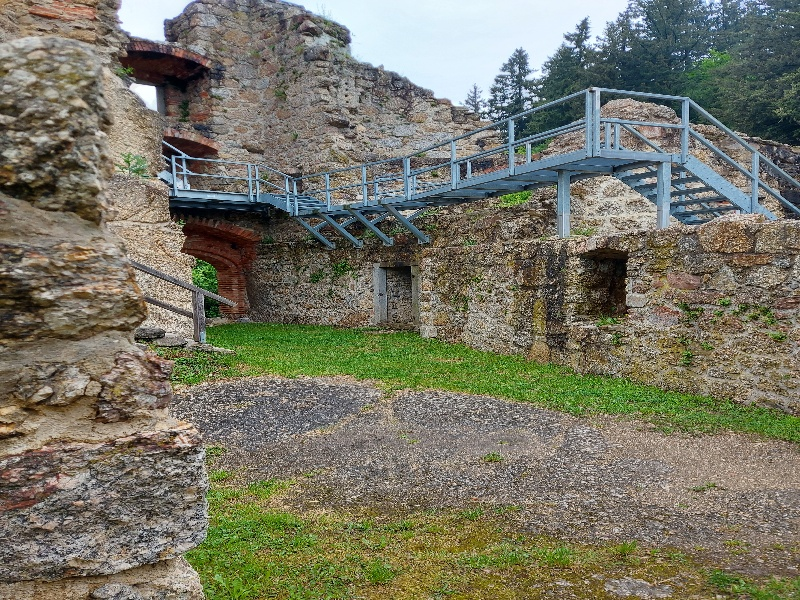door1: (367, 256, 422, 330)
